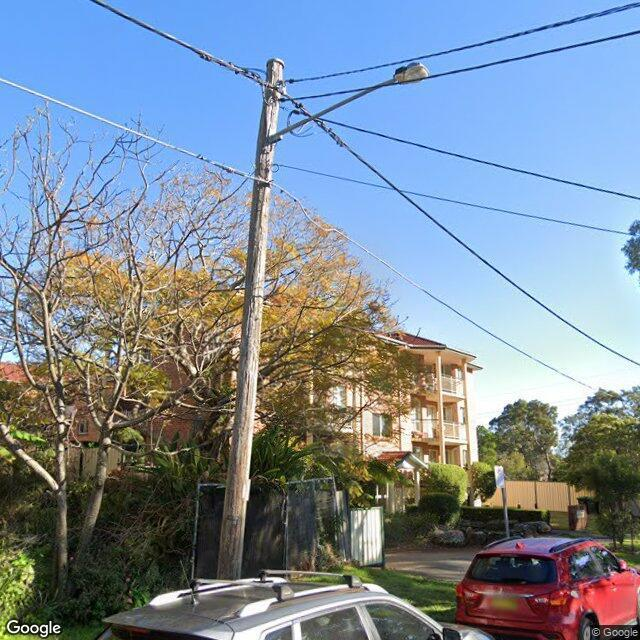streetlight: (268, 62, 430, 144)
timber-pole: (217, 59, 285, 582)
